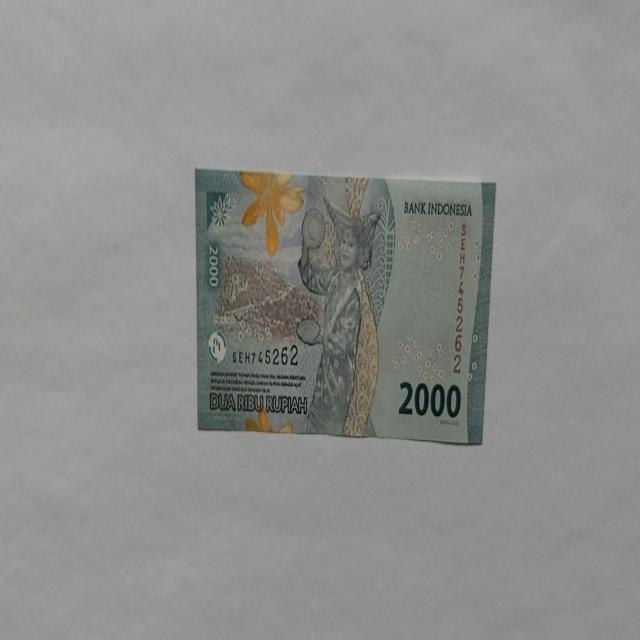dua ribu rupiah: (194, 168, 496, 446), (296, 195, 382, 436), (238, 170, 306, 258)
